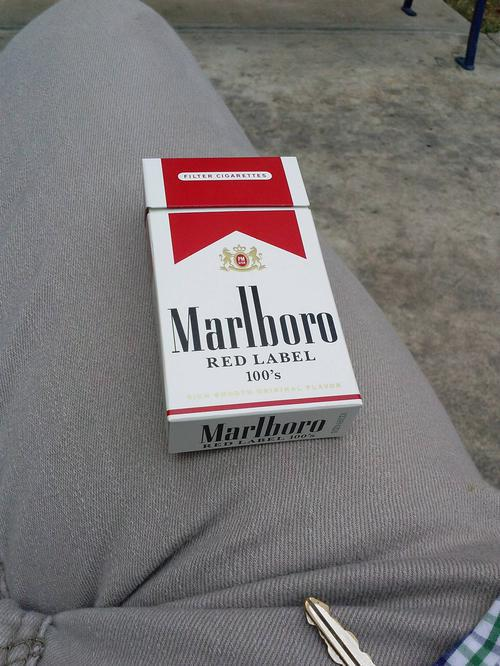marlboro: (150, 155, 344, 407)
